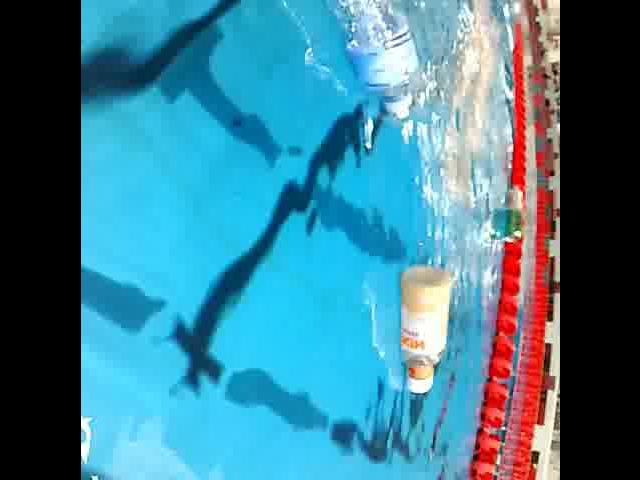Bottle: (293, 0, 421, 132), (386, 256, 456, 396)
Can: (502, 203, 524, 253)
